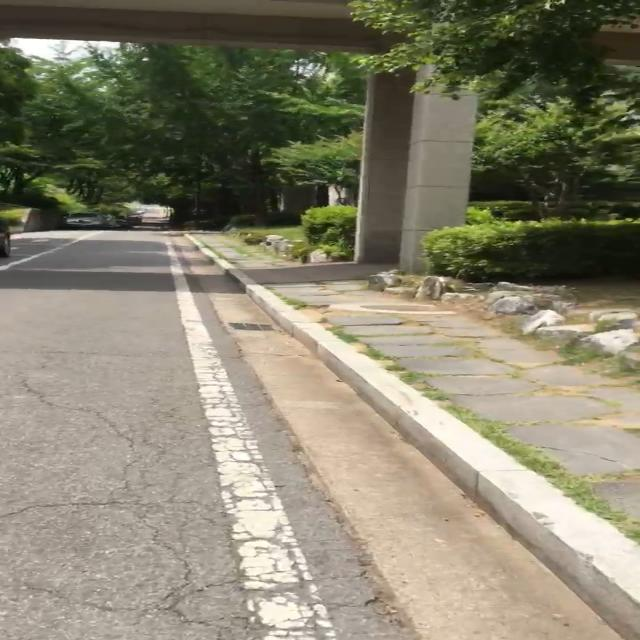obstacle: (62, 204, 145, 231)
road: (0, 230, 640, 640)
sidewalk: (188, 230, 640, 602)
